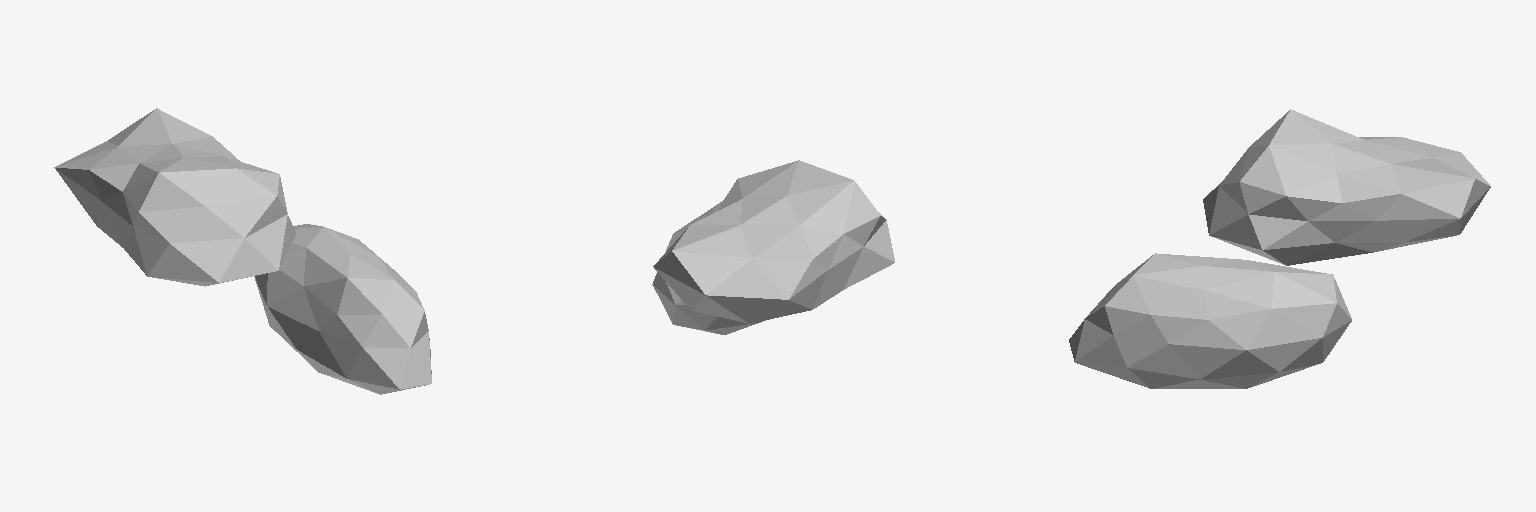
Rendered from nuvens3.obj.
3 renders of one model, left to right at view 1: azimuth 30°, elevation 25°; view 2: azimuth 150°, elevation 25°; view 3: azimuth 270°, elevation 25°, orthographic.
Parts seen in each view (by area): view 1: Icosphere.025_Icosphere.026, Icosphere.024_Icosphere.025; view 2: Icosphere.025_Icosphere.026, Icosphere.024_Icosphere.025; view 3: Icosphere.025_Icosphere.026, Icosphere.024_Icosphere.025.
Part boxes in pixels (bbox=[...]): Icosphere.025_Icosphere.026: bbox=[54, 108, 295, 286]; Icosphere.024_Icosphere.025: bbox=[254, 224, 431, 394]; Icosphere.025_Icosphere.026: bbox=[653, 160, 894, 323]; Icosphere.024_Icosphere.025: bbox=[652, 201, 765, 334]; Icosphere.025_Icosphere.026: bbox=[1203, 109, 1490, 265]; Icosphere.024_Icosphere.025: bbox=[1069, 253, 1351, 388].
Size of the model in its own units: 10.65 by 8.78 by 16.5.